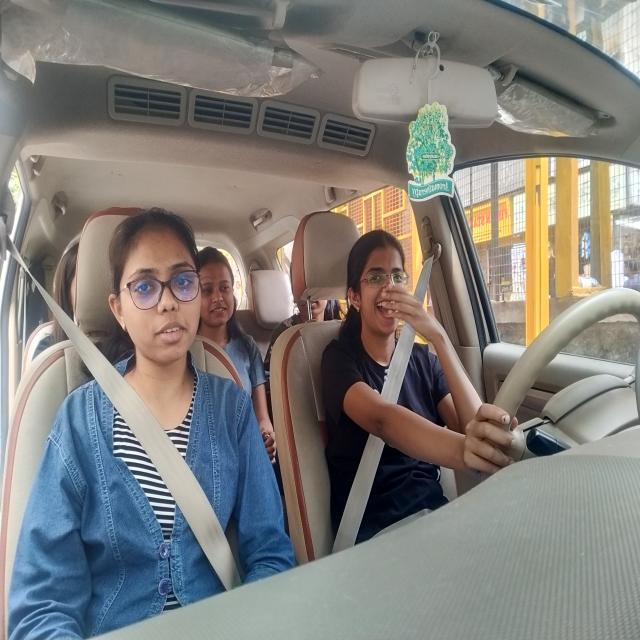person: (108, 206, 205, 368), (344, 228, 414, 338), (198, 244, 237, 336)
